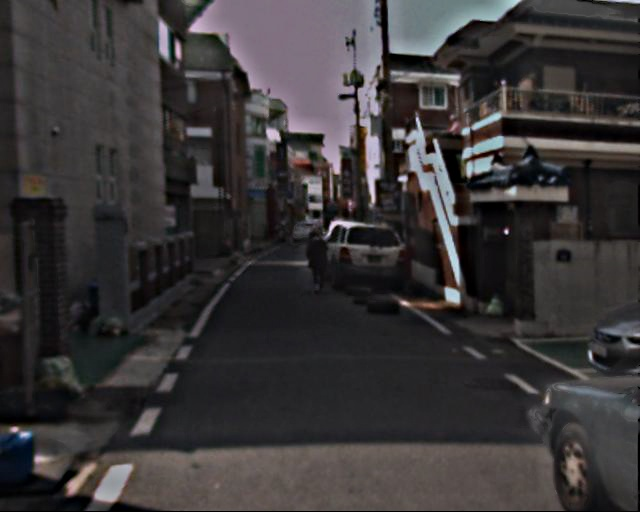person: (305, 230, 331, 293)
